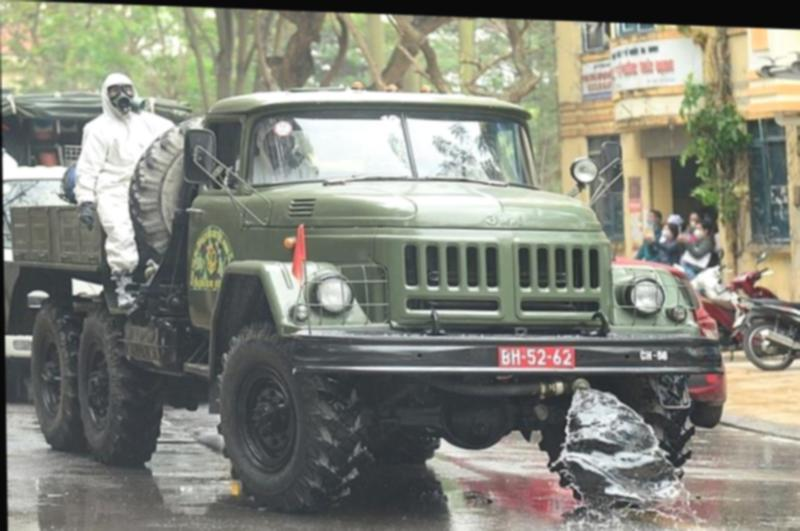License_Plate: (497, 342, 578, 372)
